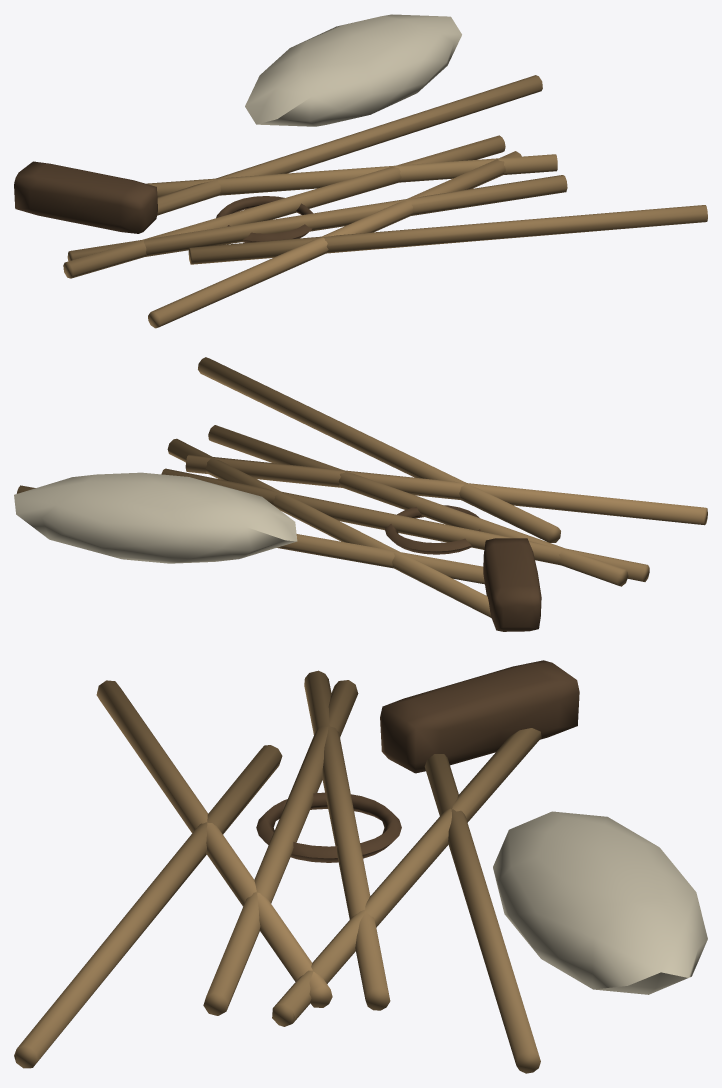
File: spar_bundle_b_lod1.glb
3 renders of one model, top to bottom at view 1: azimuth 30°, elevation 25°; view 2: azimuth 150°, elevation 25°; view 3: azimuth 270°, elevation 25°, orthographic. The views are drawn at different scales.
Visible parts, largest first — view 1: Surface.001; view 2: Surface.001; view 3: Surface.001.
Part boxes in pixels (x1,y1,x2,y2): Surface.001: [14, 14, 707, 328]; Surface.001: [14, 357, 707, 631]; Surface.001: [14, 660, 707, 1073].
Bounding box in the file's own units: 2.99 × 0.4035 × 2.3.
